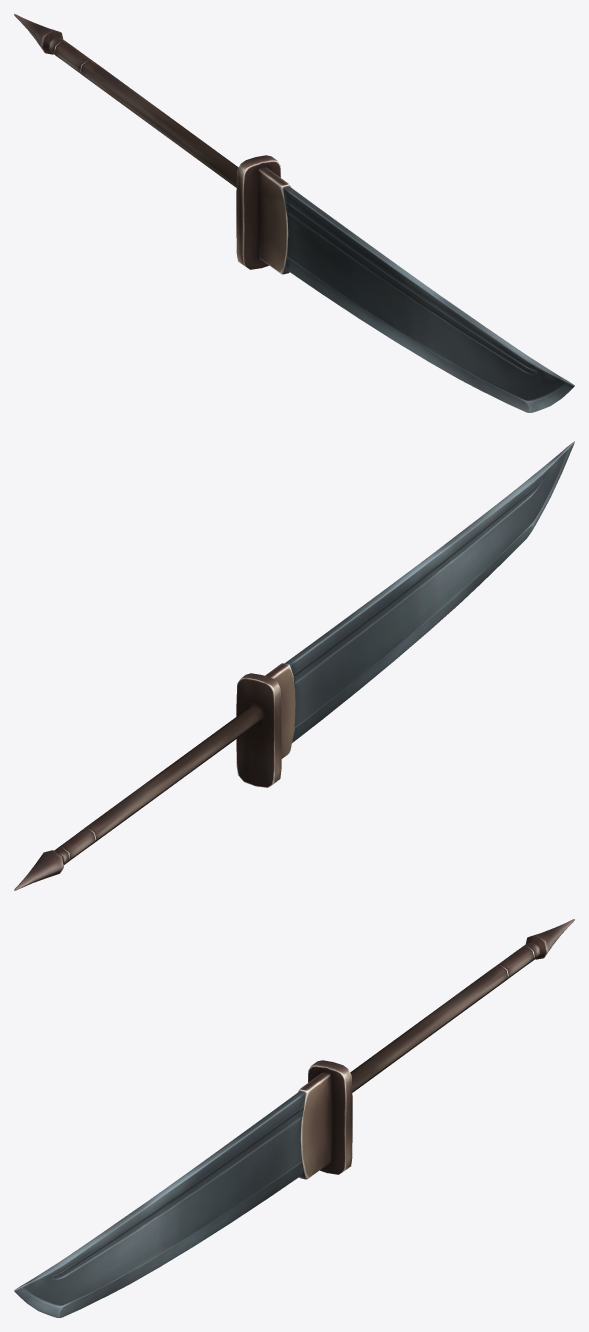
Rendered from Sword Big.FBX.
The picture shows the model from 3 angles, top to bottom: view 1: azimuth 30°, elevation 25°; view 2: azimuth 150°, elevation 25°; view 3: azimuth 330°, elevation 25°; orthographic projection.
Parts seen in each view (by area): view 1: Sword Big; view 2: Sword Big; view 3: Sword Big.
Part boxes in pixels (<box>): Sword Big: <box>14,14,574,412</box>; Sword Big: <box>14,441,574,890</box>; Sword Big: <box>14,919,574,1317</box>.
Bounding box in the file's own units: 8.7 × 214 × 23.45.
1 material, 1 textured.
